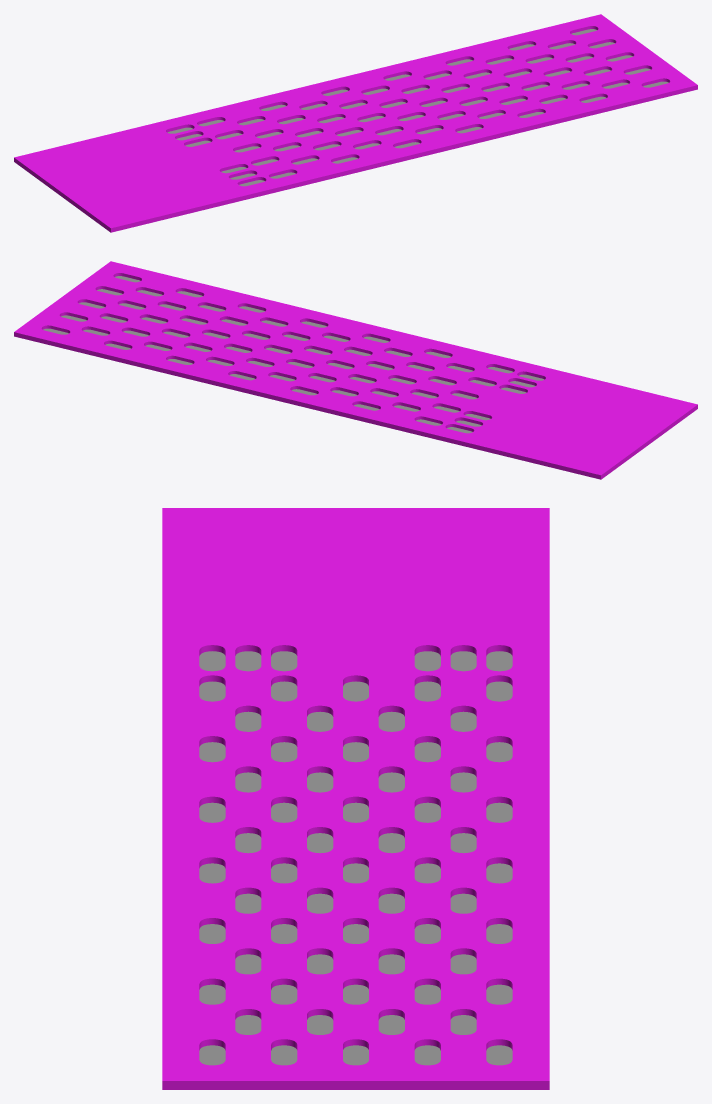
The model's file is CupWasher_Frame_high.fbx.
3 views of the same model, one above another, from view 1: azimuth 30°, elevation 25°; view 2: azimuth 150°, elevation 25°; view 3: azimuth 270°, elevation 25° (orthographic). The views are drawn at different scales.
Visible parts, largest first — view 1: CupWasher_Frame_high; view 2: CupWasher_Frame_high; view 3: CupWasher_Frame_high.
Part boxes in pixels (x1,y1,x2,y2): CupWasher_Frame_high: (14,14,697,232); CupWasher_Frame_high: (14,261,697,479); CupWasher_Frame_high: (162,508,549,1089).
Size of the model in its own units: 84 by 0.6 by 24.
